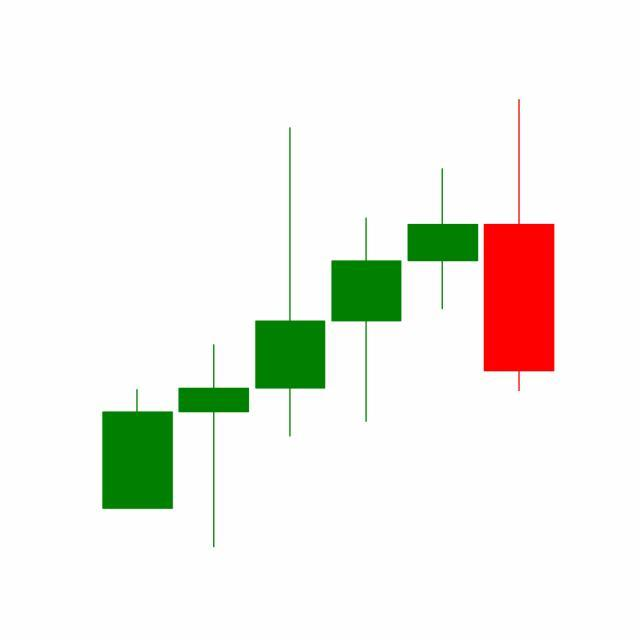Spinning Top: (404, 166, 482, 312)
